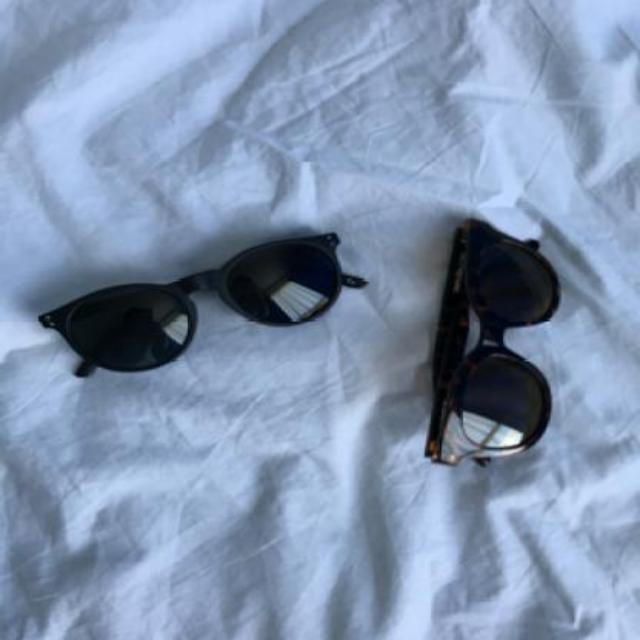glasses: (36, 230, 368, 380), (421, 216, 562, 469)
